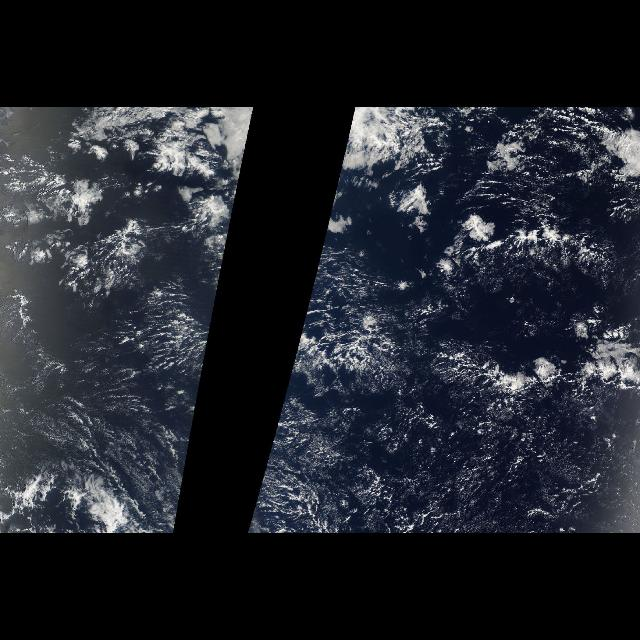Fish: (473, 316, 639, 428), (458, 208, 630, 290)
Flower: (8, 159, 140, 275)
Gravel: (274, 247, 443, 427), (490, 107, 630, 287), (146, 306, 214, 384)
Sugar: (3, 286, 219, 534), (247, 397, 631, 533), (286, 286, 402, 390)
